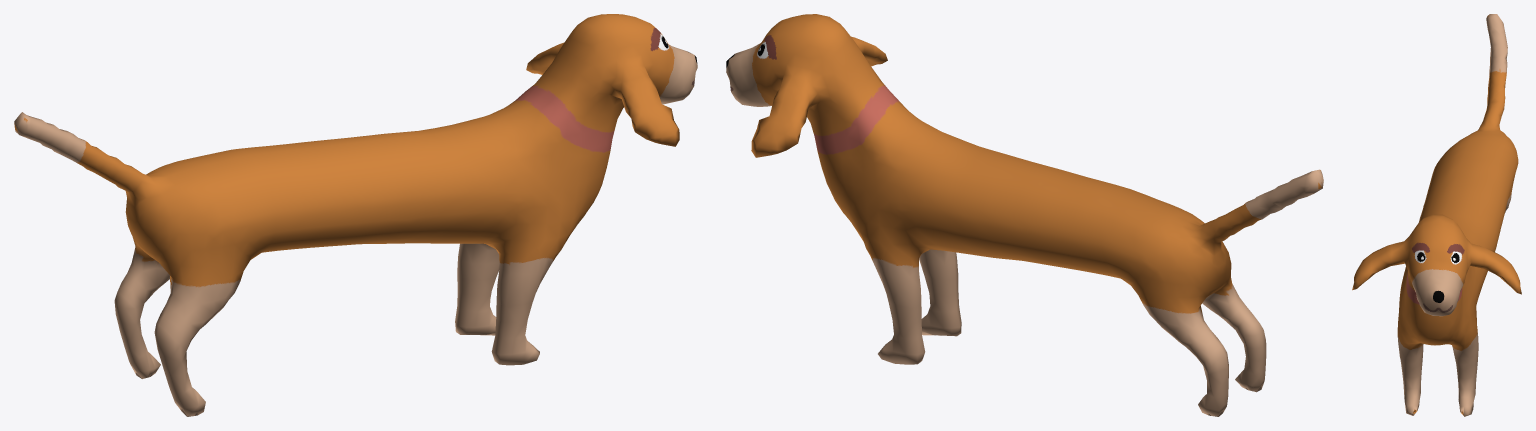
The model's file is dog_aug_7.obj.
The picture shows the model from 3 angles, left to right: view 1: azimuth 30°, elevation 25°; view 2: azimuth 150°, elevation 25°; view 3: azimuth 270°, elevation 25°; orthographic projection. The views are drawn at different scales.
Bounding box in the file's own units: 102 × 48.23 × 31.28.
1 material, 1 textured.
